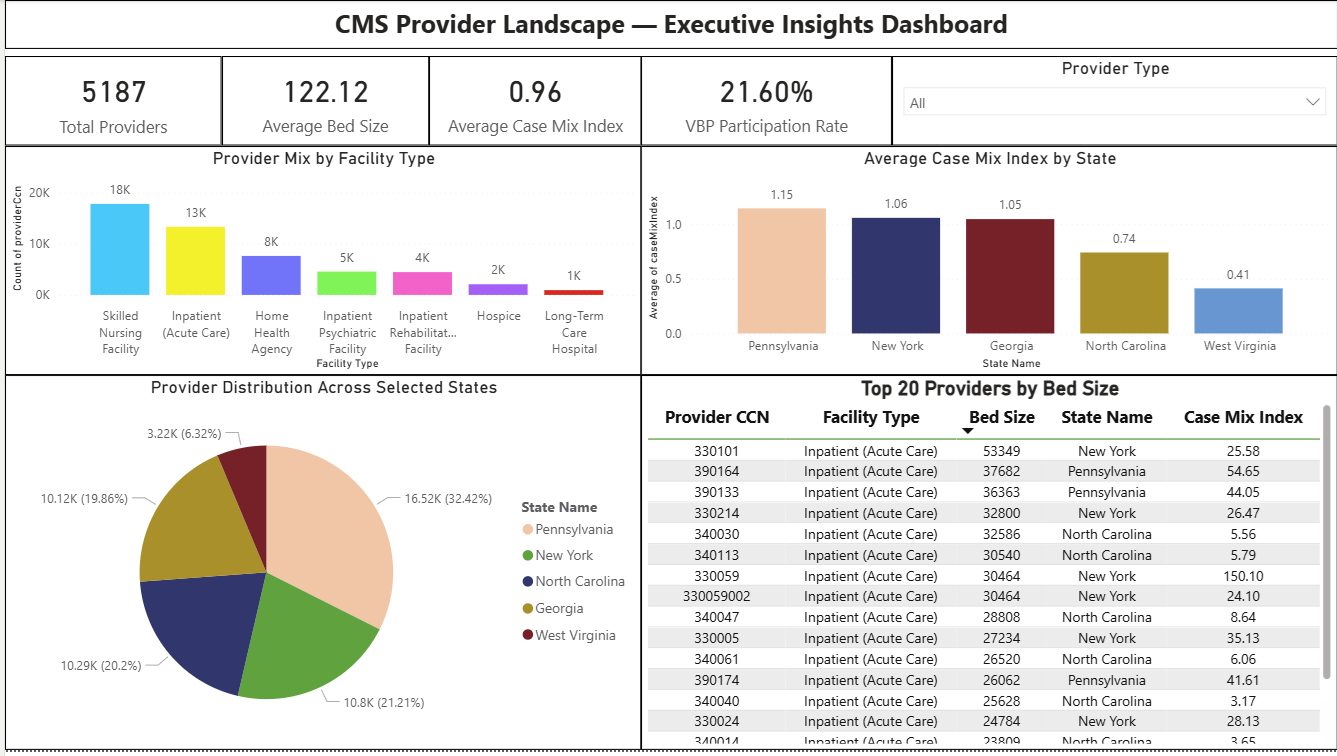

The dashboard page shown, as its layout file describes it:
{"tool":"powerbi","page":{"name":"Page 1","canvas":[1280,720],"ordinal":0},"visuals":[{"type":"textbox","box":[0,0,1280,47],"z":0},{"type":"card","fields":{"Values":["Count(provider_specific_file.providerCcn)"]},"box":[0,54,208,86],"z":1000},{"type":"card","fields":{"Values":["Avg(provider_specific_file.bedSize)"]},"box":[208.1,54.2,198.6,85.5],"z":2000},{"type":"card","fields":{"Values":["Avg(provider_specific_file.caseMixIndex)"]},"box":[406.7,54.2,204.3,85.5],"z":3000},{"type":"card","fields":{"Values":["provider_specific_file.VBP_Participation_Rate"]},"box":[611,54.2,241.4,85.5],"z":4000},{"type":"slicer","title":"Provider Type","fields":{"Values":["Provider Type.Facility Type "]},"box":[852,54,428,86],"z":5000},{"type":"pieChart","title":"Provider Distribution Across Selected States","fields":{"Y":["CountNonNull(provider_specific_file.providerCcn)"],"Category":["State Refrence Data.State Name"]},"box":[0,360,611,360],"z":6000},{"type":"clusteredColumnChart","title":"Average Case Mix Index by State","fields":{"Category":["State Refrence Data.State Name"],"Y":["Avg(provider_specific_file.caseMixIndex)"]},"box":[611,140,669,220],"z":7000},{"type":"clusteredColumnChart","title":"Provider Mix by Facility Type","fields":{"Y":["CountNonNull(provider_specific_file.providerCcn)"],"Category":["Provider Type.Facility Type "]},"box":[0,140,611,220],"z":8000},{"type":"tableEx","title":"Top 20 Providers by Bed Size","fields":{"Values":["provider_specific_file.providerCcn","Provider Type.Facility Type ","Sum(provider_specific_file.bedSize)","State Refrence Data.State Name","Sum(provider_specific_file.caseMixIndex)"]},"box":[611,360.1,669,360.1],"z":9000}]}

Visuals, with their boxes in screenshot pixels (x1, y1, x2, y2), scaled from the page's 1280x720 canvas onto the 1337x756 screenshot:
textbox: bbox=(0, 0, 1336, 49)
card - Count(provider_specific_file.providerCcn): bbox=(0, 57, 217, 147)
card - Avg(provider_specific_file.bedSize): bbox=(217, 57, 425, 147)
card - Avg(provider_specific_file.caseMixIndex): bbox=(425, 57, 638, 147)
card - provider_specific_file.VBP_Participation_Rate: bbox=(638, 57, 890, 147)
"Provider Type" slicer: bbox=(890, 57, 1336, 147)
"Provider Distribution Across Selected States" pieChart: bbox=(0, 378, 638, 755)
"Average Case Mix Index by State" clusteredColumnChart: bbox=(638, 147, 1336, 378)
"Provider Mix by Facility Type" clusteredColumnChart: bbox=(0, 147, 638, 378)
"Top 20 Providers by Bed Size" tableEx: bbox=(638, 378, 1336, 755)
